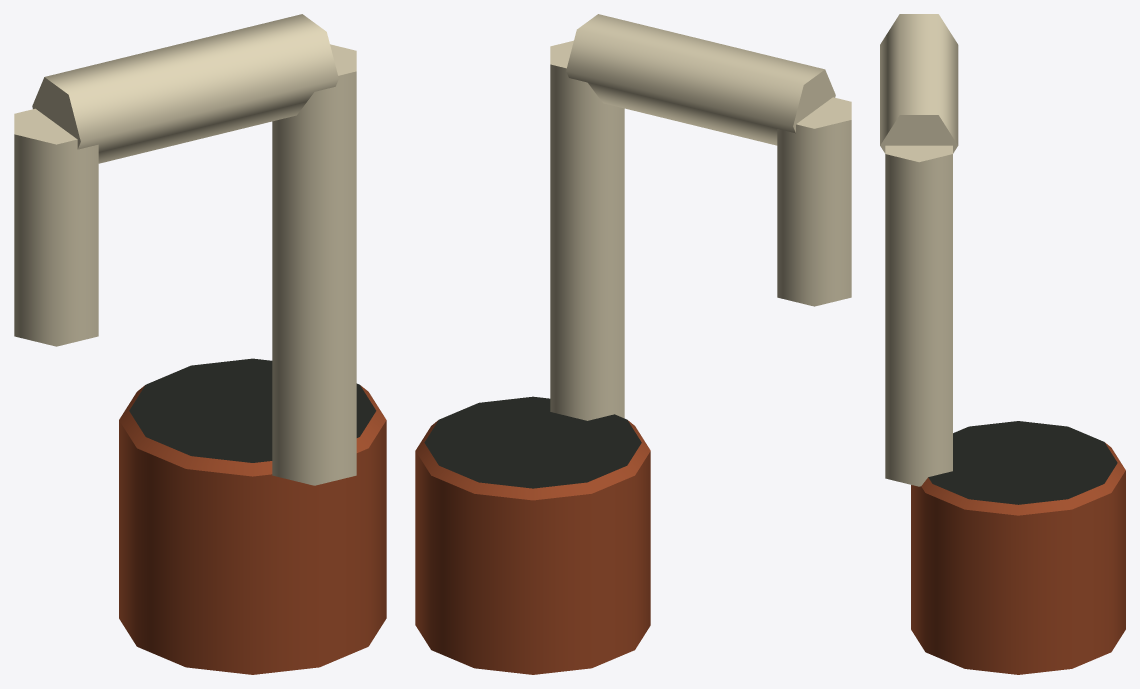
Rendered from u500_fan.obj.
3 renders of one model, left to right at view 1: azimuth 30°, elevation 25°; view 2: azimuth 150°, elevation 25°; view 3: azimuth 270°, elevation 25°, orthographic. The views are drawn at different scales.
Parts seen in each view (by area): view 1: u500_fan; view 2: u500_fan; view 3: u500_fan.
Part boxes in pixels (<box>): u500_fan: <box>14,14,386,674</box>; u500_fan: <box>415,14,851,674</box>; u500_fan: <box>880,14,1125,674</box>.
Size of the model in its own units: 2.37 by 3.49 by 1.51.
